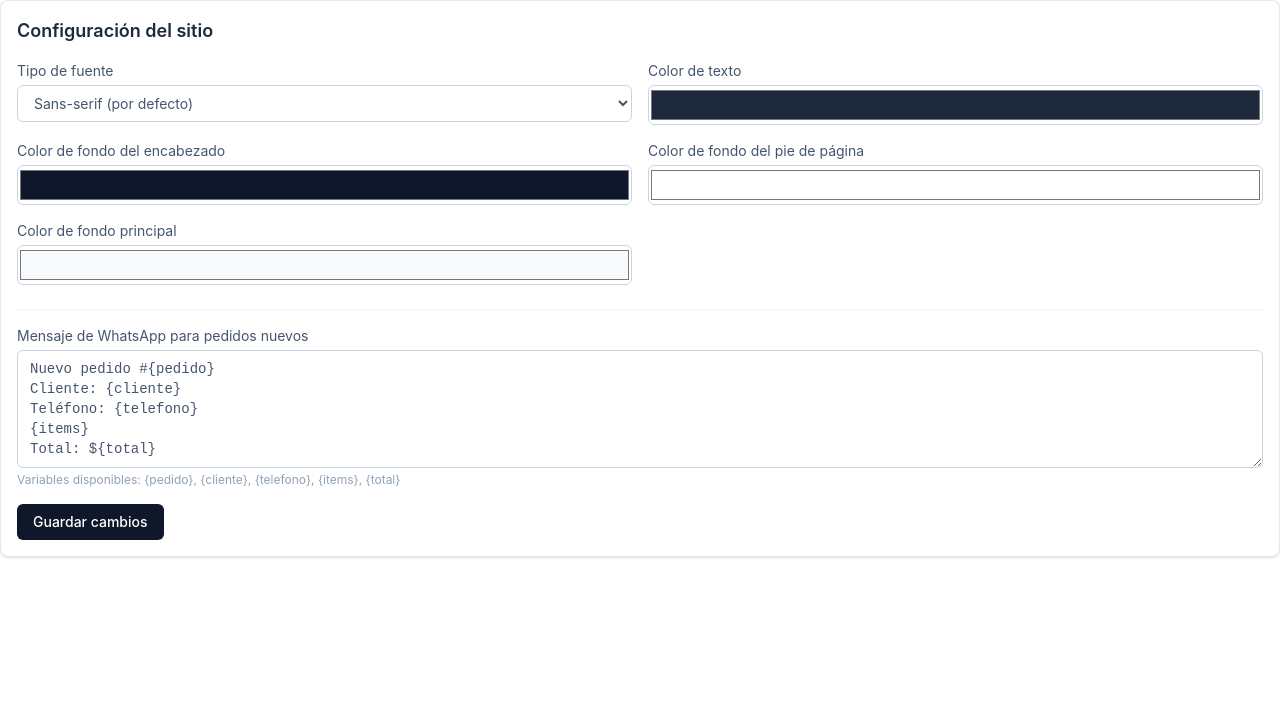
it: AdminSettings › guarda los cambios y muestra una notificación
Expected: the heading "Configuración del sitio" is shown, [17,20,213,41]
Click the button "Guardar cambios": (90, 522) [17,504,164,540]
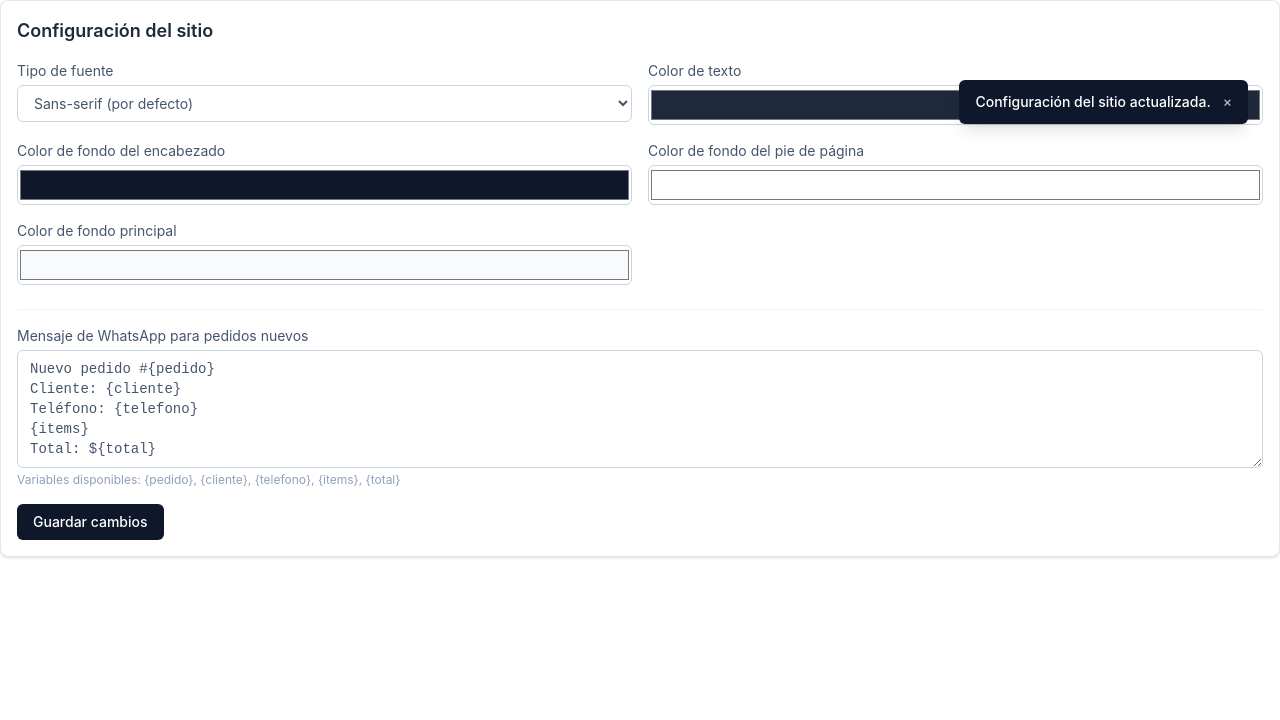
Now the text "Configuración del sitio actualizada." is shown, box [976,92,1211,112]
